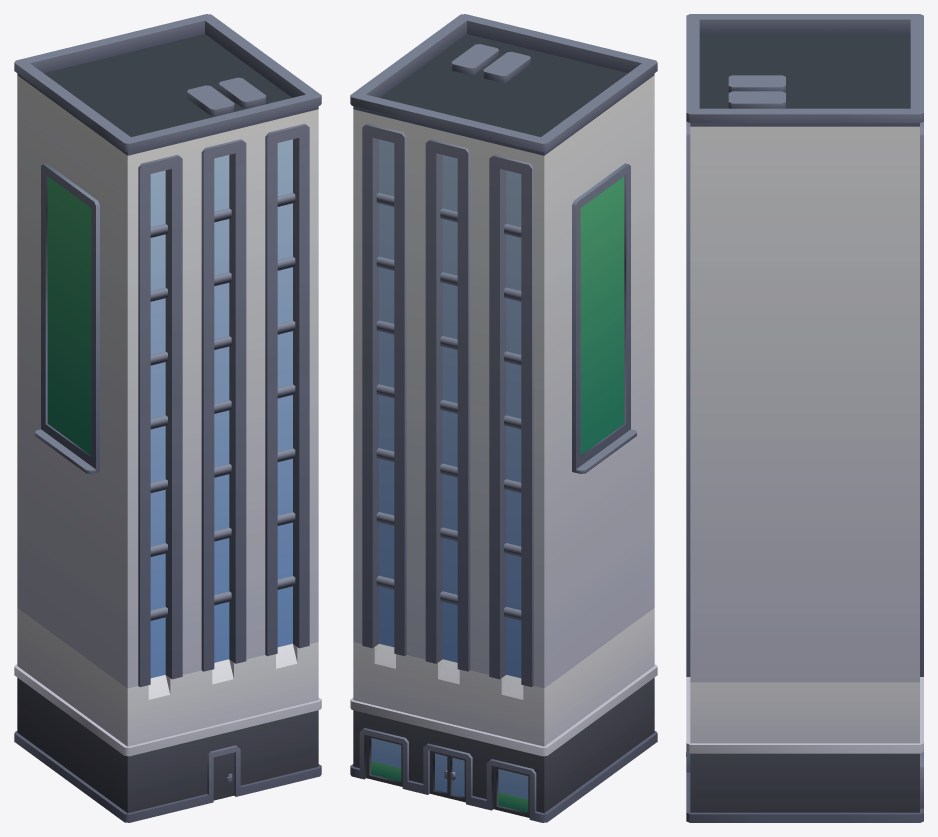
File: building-skyscraper-e.glb
3 renders of one model, left to right at view 1: azimuth 30°, elevation 25°; view 2: azimuth 150°, elevation 25°; view 3: azimuth 270°, elevation 25°, orthographic. The views are drawn at different scales.
Parts seen in each view (by area): view 1: building-skyscraper-e; view 2: building-skyscraper-e; view 3: building-skyscraper-e.
Boxes of the visible parts, x1,y1,x2,y2 form: building-skyscraper-e: (14,14,321,822); building-skyscraper-e: (350,14,657,822); building-skyscraper-e: (686,14,923,822).
Bounding box in the file's own units: 1.3 × 4.08 × 1.24.
Materials: 1 (1 with a texture image).
